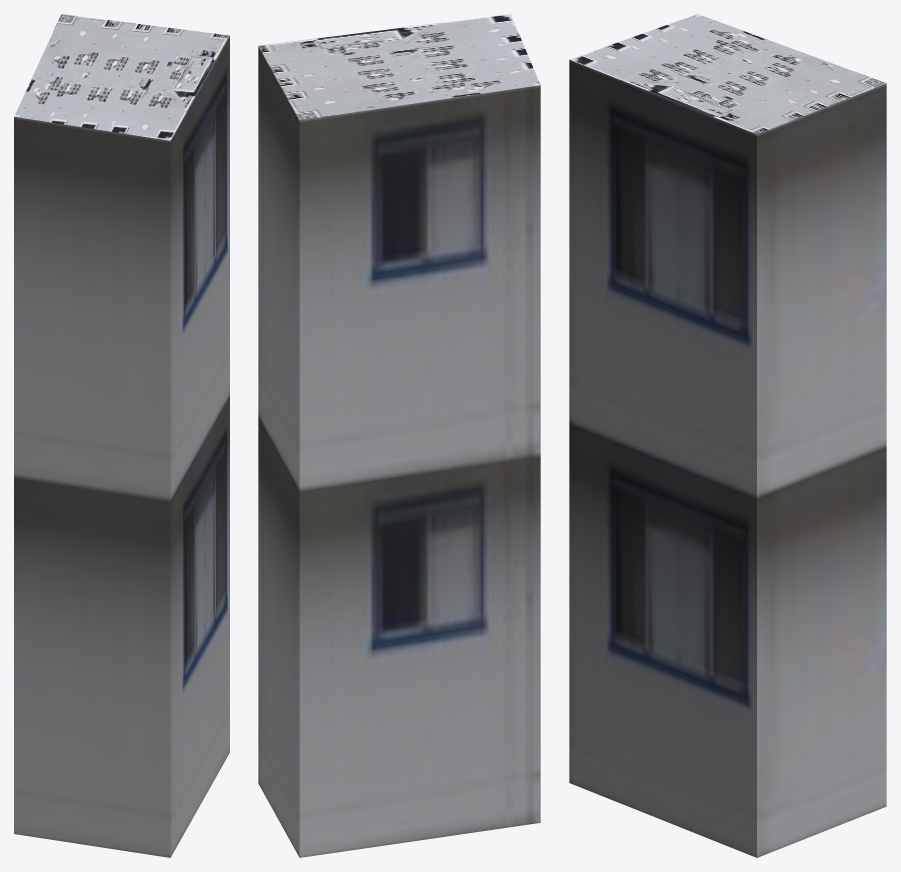
The model's file is ResTex__1261.fbx.
The picture shows the model from 3 angles, left to right: view 1: azimuth 30°, elevation 25°; view 2: azimuth 150°, elevation 25°; view 3: azimuth 270°, elevation 25°; orthographic projection. The views are drawn at different scales.
Parts seen in each view (by area): view 1: CityEngineMaterial_9_m, CityEngineMaterial_4_m; view 2: CityEngineMaterial_9_m, CityEngineMaterial_4_m; view 3: CityEngineMaterial_9_m, CityEngineMaterial_4_m.
Boxes of the visible parts, left/top/right/bottom form: CityEngineMaterial_9_m: left=14, top=36, right=229, bottom=857; CityEngineMaterial_4_m: left=14, top=14, right=229, bottom=140; CityEngineMaterial_9_m: left=258, top=46, right=540, bottom=857; CityEngineMaterial_4_m: left=258, top=14, right=540, bottom=120; CityEngineMaterial_9_m: left=569, top=59, right=886, bottom=857; CityEngineMaterial_4_m: left=570, top=14, right=885, bottom=134.
Size of the model in its own units: 2.15 by 6 by 2.38.
2 materials, 2 textured.
